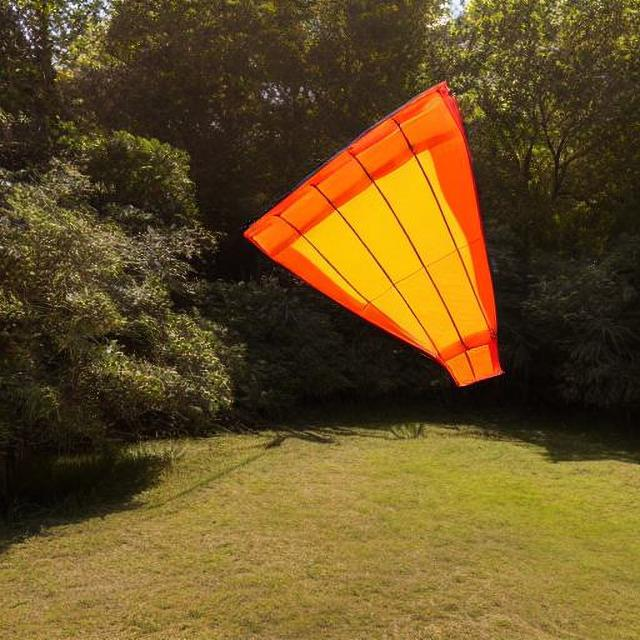floating object: (247, 81, 498, 391)
